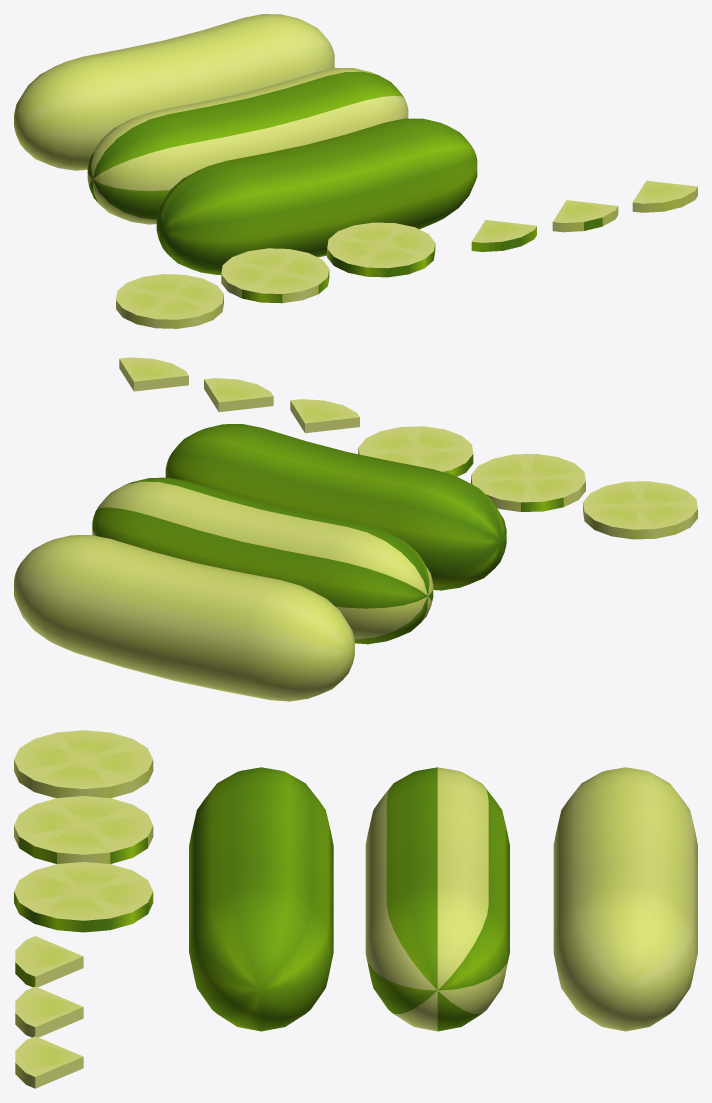
The model's file is cucumber.fbx.
3 views of the same model, one above another, from view 1: azimuth 30°, elevation 25°; view 2: azimuth 150°, elevation 25°; view 3: azimuth 270°, elevation 25° (orthographic). The views are drawn at different scales.
Visible parts, largest first — view 1: cucumber, cucumber_Shaved, cucumber_Shaved_Half, cucumberSlice_Shaved_Half, cucumberSlice, cucumberSlice_Shaved, cucumberSlice_Quarter_Shaved_Half, cucumberSlice_Quarter_Shaved, cucumberSlice_Quarter; view 2: cucumber_Shaved, cucumber_Shaved_Half, cucumber, cucumberSlice_Shaved, cucumberSlice_Shaved_Half, cucumberSlice, cucumberSlice_Quarter_Shaved, cucumberSlice_Quarter, cucumberSlice_Quarter_Shaved_Half; view 3: cucumber_Shaved, cucumber_Shaved_Half, cucumber, cucumberSlice, cucumberSlice_Shaved_Half, cucumberSlice_Shaved, cucumberSlice_Quarter_Shaved, cucumberSlice_Quarter, cucumberSlice_Quarter_Shaved_Half.
Boxes of the visible parts, x1,y1,x2,y2 form: cucumber: [156, 118, 477, 274]; cucumber_Shaved: [14, 14, 334, 170]; cucumber_Shaved_Half: [87, 68, 408, 224]; cucumberSlice_Shaved_Half: [221, 248, 329, 303]; cucumberSlice: [327, 222, 435, 277]; cucumberSlice_Shaved: [116, 274, 223, 328]; cucumberSlice_Quarter_Shaved_Half: [552, 200, 618, 232]; cucumberSlice_Quarter_Shaved: [632, 180, 697, 212]; cucumberSlice_Quarter: [471, 220, 536, 251]; cucumber_Shaved: [14, 535, 354, 701]; cucumber_Shaved_Half: [92, 477, 433, 644]; cucumber: [165, 424, 506, 590]; cucumberSlice_Shaved: [583, 481, 697, 539]; cucumberSlice_Shaved_Half: [471, 453, 585, 511]; cucumberSlice: [358, 426, 473, 476]; cucumberSlice_Quarter_Shaved: [119, 357, 188, 391]; cucumberSlice_Quarter: [290, 399, 359, 433]; cucumberSlice_Quarter_Shaved_Half: [204, 378, 273, 412]; cucumber_Shaved: [553, 767, 697, 1031]; cucumber_Shaved_Half: [365, 767, 509, 1031]; cucumber: [189, 767, 333, 1031]; cucumberSlice: [14, 862, 153, 932]; cucumberSlice_Shaved_Half: [14, 796, 153, 863]; cucumberSlice_Shaved: [14, 730, 153, 798]; cucumberSlice_Quarter_Shaved: [15, 1036, 83, 1088]; cucumberSlice_Quarter: [15, 936, 83, 987]; cucumberSlice_Quarter_Shaved_Half: [15, 986, 83, 1037].
Bounding box in the file's own units: 3.18 × 2.65 × 0.5792.
1 material, 1 textured.
